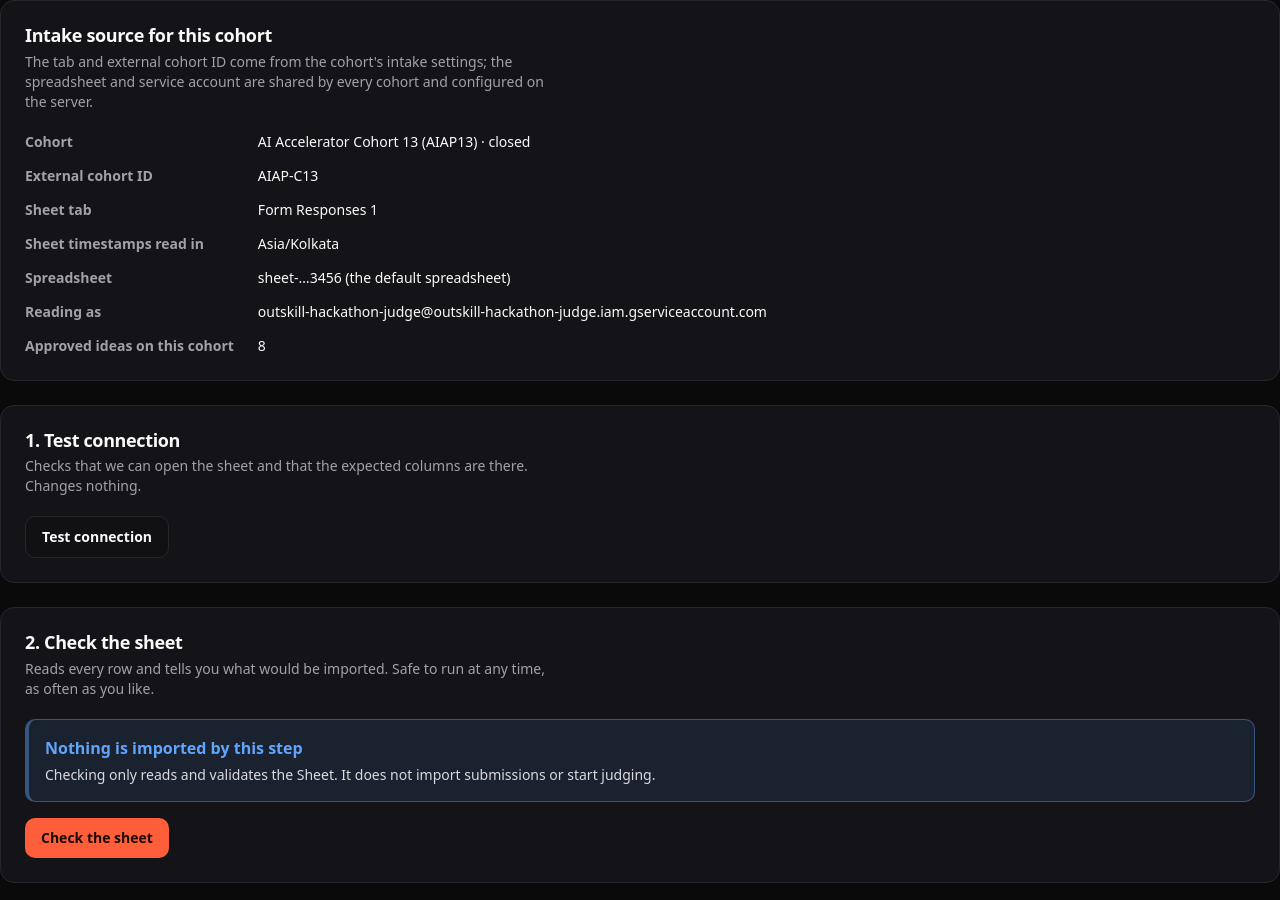
after checking the sheet › shows counts an operator can act on
Step 1. Click the button "Check the sheet" → (97, 838), box left=25, top=818, right=169, bottom=858
(page scrolled)
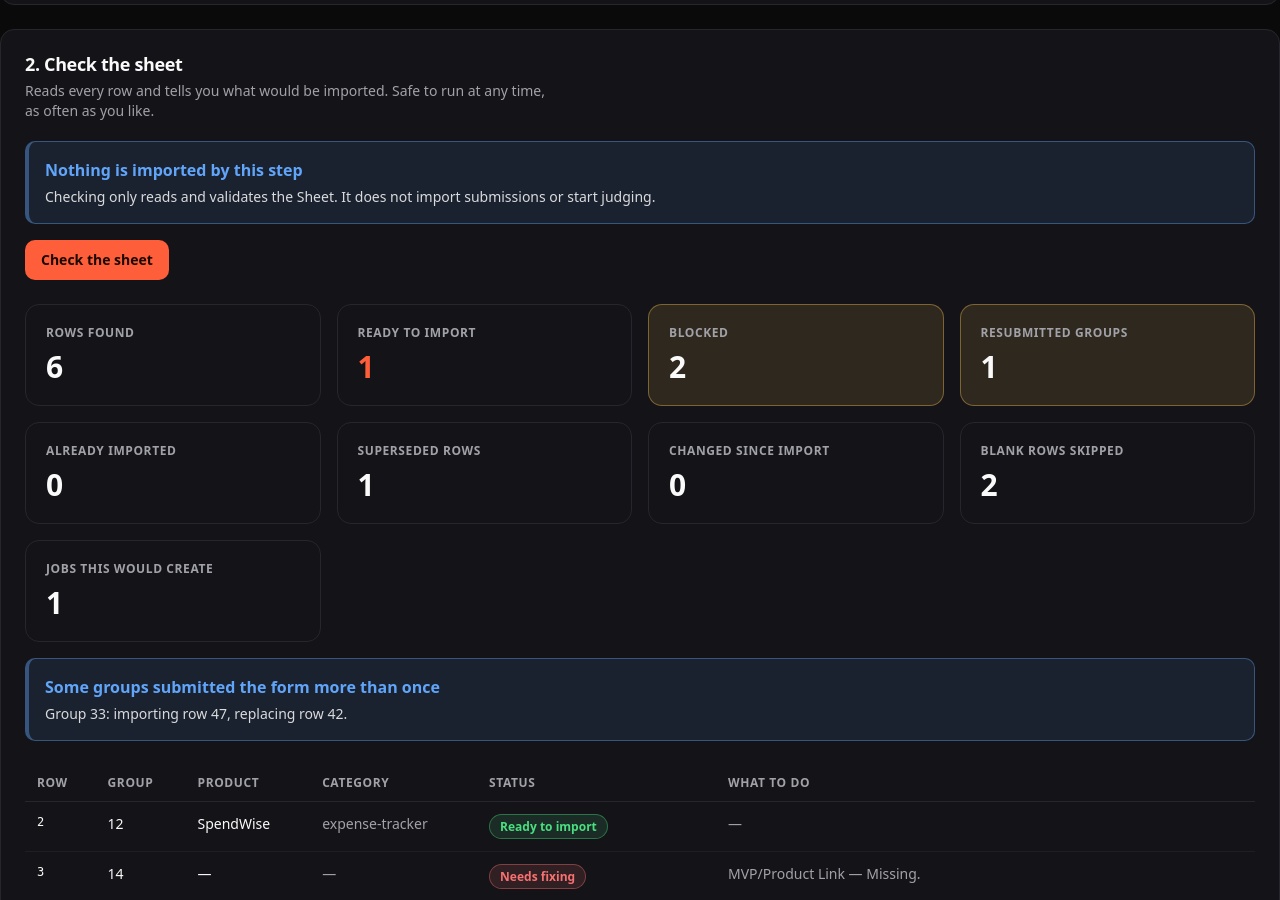
Now the text "Ready to import" next to "Blocked" is shown, box left=358, top=324, right=476, bottom=341
Now the text "Blocked" is shown, box left=669, top=324, right=729, bottom=341
Now the text "Resubmitted groups" is shown, box left=980, top=324, right=1128, bottom=341
